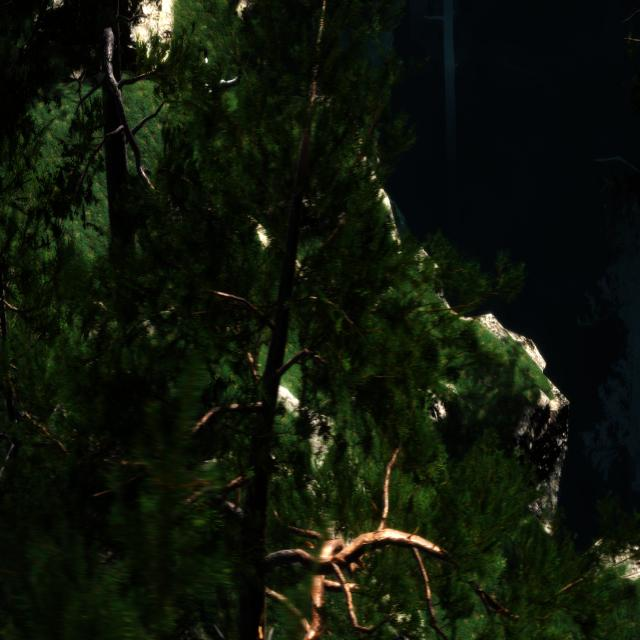Human: (192, 49, 252, 114)
